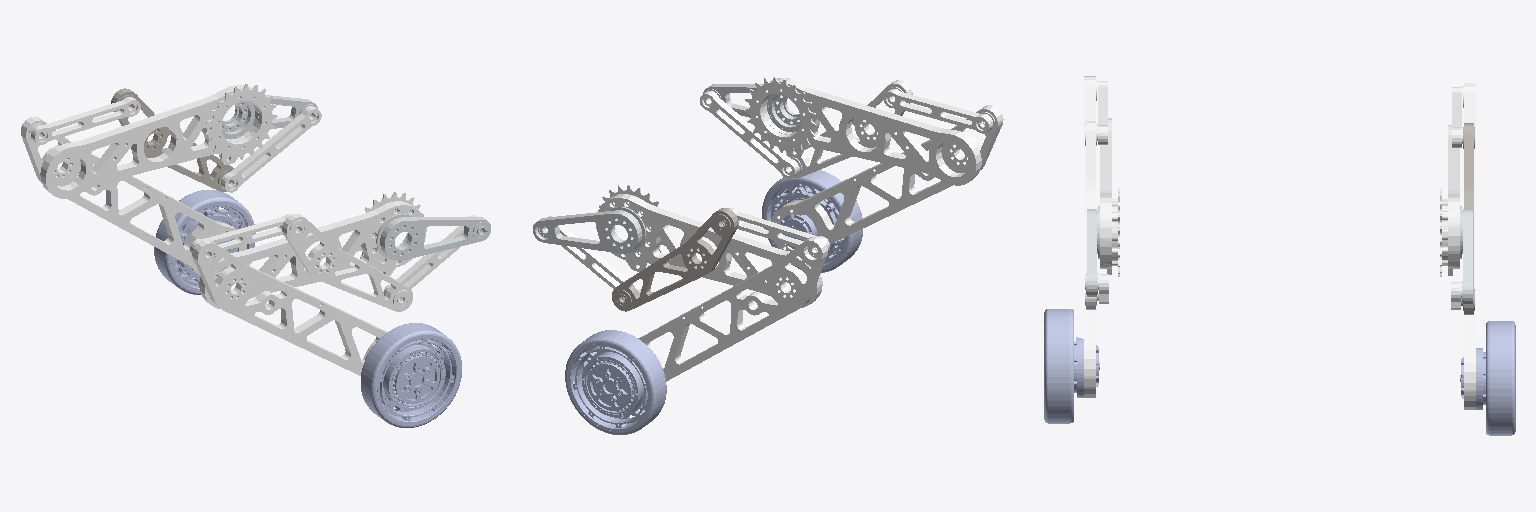
robot.urdf — COD-2026-Balance-2.0:
<?xml version="1.0" encoding="utf-8"?>
<!-- This URDF was automatically created by SolidWorks to URDF Exporter! Originally created by [author] ([email redacted]) 
     Commit Version: 1.6.0-4-g7f85cfe  Build Version: 1.6.7995.38578
     For more information, please see http://wiki.ros.org/sw_urdf_exporter -->
<robot
  name="COD-2026-Balance-2.0">
  <link
    name="base_link">
    <inertial>
      <origin
        xyz="-0.019917 -0.00040396 0.021412"
        rpy="0 0 0" />
      <mass
        value="11" />
      <inertia
        ixx="2.8641"
        ixy="0.00055707"
        ixz="-7.3377E-05"
        iyy="2.8736"
        iyz="-4.4471E-06"
        izz="3.0472" />
    </inertial>
    <visual>
      <origin
        xyz="0 0 0"
        rpy="0 0 0" />
      <geometry>
        <mesh
          filename="package://cod_2026_balance/meshes/base_link.STL" />
      </geometry>
      <material
        name="">
        <color
          rgba="1 1 1 1" />
      </material>
    </visual>
    <collision>
      <origin
        xyz="0 0 0"
        rpy="0 0 0" />
      <geometry>
        <mesh
          filename="package://cod_2026_balance/meshes/base_link.STL" />
      </geometry>
    </collision>
  </link>
  <link
    name="Left_front_link">
    <inertial>
      <origin
        xyz="0.032009 -0.002932 -0.003563"
        rpy="0 0 0" />
      <mass
        value="0.7" />
      <inertia
        ixx="3.0647E-05"
        ixy="5.8453E-07"
        ixz="1.0557E-05"
        iyy="0.00015289"
        iyz="-6.5066E-08"
        izz="0.00012431" />
    </inertial>
    <visual>
      <origin
        xyz="0 0 0"
        rpy="0 0 0" />
      <geometry>
        <mesh
          filename="package://cod_2026_balance/meshes/Left_front_link.STL" />
      </geometry>
      <material
        name="">
        <color
          rgba="0.89804 0.91765 0.92941 1" />
      </material>
    </visual>
    <collision>
      <origin
        xyz="0 0 0"
        rpy="0 0 0" />
      <geometry>
        <mesh
          filename="package://cod_2026_balance/meshes/Left_front_link.STL" />
      </geometry>
    </collision>
  </link>
  <joint
    name="Left_front_joint"
    type="continuous">
    <origin
      xyz="-0.01939139612421 -0.183700000000001 -0.0500000000000005"
      rpy="0 0 0" />
    <parent
      link="base_link" />
    <child
      link="Left_front_link" />
    <axis
      xyz="0 1 0" />
    <limit
      lower="0"
      upper="0"
      effort="0"
      velocity="0" />
  </joint>
  <link
    name="Left_front_child1_link">
    <inertial>
      <origin
        xyz="-0.038168 0.0023981 -0.022193"
        rpy="0 0 0" />
      <mass
        value="0.25" />
      <inertia
        ixx="1.4506E-05"
        ixy="-6.7179E-20"
        ixz="-2.2229E-05"
        iyy="5.3755E-05"
        iyz="-7.6825E-20"
        izz="3.9811E-05" />
    </inertial>
    <visual>
      <origin
        xyz="0 0 0"
        rpy="0 0 0" />
      <geometry>
        <mesh
          filename="package://cod_2026_balance/meshes/Left_front_child1_link.STL" />
      </geometry>
      <material
        name="">
        <color
          rgba="1 1 1 1" />
      </material>
    </visual>
    <collision>
      <origin
        xyz="0 0 0"
        rpy="0 0 0" />
      <geometry>
        <mesh
          filename="package://cod_2026_balance/meshes/Left_front_child1_link.STL" />
      </geometry>
    </collision>
  </link>
  <joint
    name="Left_front_child1_joint"
    type="continuous">
    <origin
      xyz="0.0993861629917907 0.00145000000000006 -0.0110630287791914"
      rpy="0 0 0" />
    <parent
      link="Left_front_link" />
    <child
      link="Left_front_child1_link" />
    <axis
      xyz="0 1 0" />
    <limit
      lower="0"
      upper="0"
      effort="0"
      velocity="0" />
  </joint>
  <link
    name="Left_front_child2_link">
    <inertial>
      <origin
        xyz="-0.070408 -0.0065 0.055735"
        rpy="0 0 0" />
      <mass
        value="0.45" />
      <inertia
        ixx="0.00011679"
        ixy="-3.2801E-20"
        ixz="0.00012028"
        iyy="0.00027733"
        iyz="3.4577E-20"
        izz="0.00016224" />
    </inertial>
    <visual>
      <origin
        xyz="0 0 0"
        rpy="0 0 0" />
      <geometry>
        <mesh
          filename="package://cod_2026_balance/meshes/Left_front_child2_link.STL" />
      </geometry>
      <material
        name="">
        <color
          rgba="1 1 1 1" />
      </material>
    </visual>
    <collision>
      <origin
        xyz="0 0 0"
        rpy="0 0 0" />
      <geometry>
        <mesh
          filename="package://cod_2026_balance/meshes/Left_front_child2_link.STL" />
      </geometry>
    </collision>
  </link>
  <joint
    name="Left_front_child2_joint"
    type="continuous">
    <origin
      xyz="-0.102130105644591 -0.00200000000000009 -0.0593843508091539"
      rpy="0 0 0" />
    <parent
      link="Left_front_child1_link" />
    <child
      link="Left_front_child2_link" />
    <axis
      xyz="0 1 0" />
    <limit
      lower="0"
      upper="0"
      effort="0"
      velocity="0" />
  </joint>
  <link
    name="Left_front_child3_link">
    <inertial>
      <origin
        xyz="-0.056516 0.0047872 -0.0018655"
        rpy="0 0 0" />
      <mass
        value="0.25" />
      <inertia
        ixx="1.2207E-06"
        ixy="-3.6753E-21"
        ixz="-1.5294E-06"
        iyy="4.8247E-05"
        iyz="-1.4566E-21"
        izz="4.7505E-05" />
    </inertial>
    <visual>
      <origin
        xyz="0 0 0"
        rpy="0 0 0" />
      <geometry>
        <mesh
          filename="package://cod_2026_balance/meshes/Left_front_child3_link.STL" />
      </geometry>
      <material
        name="">
        <color
          rgba="1 1 1 1" />
      </material>
    </visual>
    <collision>
      <origin
        xyz="0 0 0"
        rpy="0 0 0" />
      <geometry>
        <mesh
          filename="package://cod_2026_balance/meshes/Left_front_child3_link.STL" />
      </geometry>
    </collision>
  </link>
  <joint
    name="Left_front_child3_joint"
    type="continuous">
    <origin
      xyz="-0.131926640294813 0.000999999999999945 0.116078660945416"
      rpy="0 0 0" />
    <parent
      link="Left_front_child2_link" />
    <child
      link="Left_front_child3_link" />
    <axis
      xyz="0 1 0" />
    <limit
      lower="0"
      upper="0"
      effort="0"
      velocity="0" />
  </joint>
  <link
    name="Left_rear_link">
    <inertial>
      <origin
        xyz="-0.088717 -0.014548 -0.002836"
        rpy="0 0 0" />
      <mass
        value="0.7" />
      <inertia
        ixx="0.00012535"
        ixy="-2.0567E-06"
        ixz="-2.904E-05"
        iyy="0.0015394"
        iyz="3.9969E-07"
        izz="0.00142" />
    </inertial>
    <visual>
      <origin
        xyz="0 0 0"
        rpy="0 0 0" />
      <geometry>
        <mesh
          filename="package://cod_2026_balance/meshes/Left_rear_link.STL" />
      </geometry>
      <material
        name="">
        <color
          rgba="1 1 1 1" />
      </material>
    </visual>
    <collision>
      <origin
        xyz="0 0 0"
        rpy="0 0 0" />
      <geometry>
        <mesh
          filename="package://cod_2026_balance/meshes/Left_rear_link.STL" />
      </geometry>
    </collision>
  </link>
  <joint
    name="Left_rear_joint"
    type="continuous">
    <origin
      xyz="-0.0193913961242041 -0.1597 -0.0500000000000005"
      rpy="0 0 0" />
    <parent
      link="base_link" />
    <child
      link="Left_rear_link" />
    <axis
      xyz="0 -1 0" />
    <limit
      lower="0"
      upper="0"
      effort="0"
      velocity="0" />
  </joint>
  <link
    name="Left_rear_child1_link">
    <inertial>
      <origin
        xyz="0.077559 -0.0084721 -0.050638"
        rpy="0 0 0" />
      <mass
        value="0.75" />
      <inertia
        ixx="0.00094196"
        ixy="2.0864E-19"
        ixz="0.0011671"
        iyy="0.0026525"
        iyz="-1.6813E-19"
        izz="0.001717" />
    </inertial>
    <visual>
      <origin
        xyz="0 0 0"
        rpy="0 0 0" />
      <geometry>
        <mesh
          filename="package://cod_2026_balance/meshes/Left_rear_child1_link.STL" />
      </geometry>
      <material
        name="">
        <color
          rgba="1 1 1 1" />
      </material>
    </visual>
    <collision>
      <origin
        xyz="0 0 0"
        rpy="0 0 0" />
      <geometry>
        <mesh
          filename="package://cod_2026_balance/meshes/Left_rear_child1_link.STL" />
      </geometry>
    </collision>
  </link>
  <joint
    name="Left_rear_child1_joint"
    type="continuous">
    <origin
      xyz="-0.214882970940007 -0.0235000000000005 -0.00709286965894851"
      rpy="0 0 0" />
    <parent
      link="Left_rear_link" />
    <child
      link="Left_rear_child1_link" />
    <axis
      xyz="0 1 0" />
    <limit
      lower="0"
      upper="0"
      effort="0"
      velocity="0" />
  </joint>
  <link
    name="Left_Wheel_link">
    <inertial>
      <origin
        xyz="0.00015229 -0.0099965 -0.00013677"
        rpy="0 0 0" />
      <mass
        value="0.9" />
      <inertia
        ixx="0.00022909"
        ixy="2.2333E-08"
        ixz="-5.0665E-07"
        iyy="0.00043712"
        iyz="-2.1681E-08"
        izz="0.00023021" />
    </inertial>
    <visual>
      <origin
        xyz="0 0 0"
        rpy="0 0 0" />
      <geometry>
        <mesh
          filename="package://cod_2026_balance/meshes/Left_Wheel_link.STL" />
      </geometry>
      <material
        name="">
        <color
          rgba="0.79216 0.81961 0.93333 1" />
      </material>
    </visual>
    <collision>
      <origin
        xyz="0 0 0"
        rpy="0 0 0" />
      <geometry>
        <mesh
          filename="package://cod_2026_balance/meshes/Left_Wheel_link.STL" />
      </geometry>
    </collision>
  </link>
  <joint
    name="Left_Wheel_joint"
    type="continuous">
    <origin
      xyz="0.208982671470372 -0.02455 -0.144368428074944"
      rpy="0 0 0" />
    <parent
      link="Left_rear_child1_link" />
    <child
      link="Left_Wheel_link" />
    <axis
      xyz="0 1 0" />
    <limit
      lower="0"
      upper="0"
      effort="0"
      velocity="0" />
  </joint>
  <link
    name="Right_front_link">
    <inertial>
      <origin
        xyz="0.025832 0.0043356 -0.0054908"
        rpy="0 0 0" />
      <mass
        value="0.7" />
      <inertia
        ixx="3.3248E-05"
        ixy="-5.7528E-07"
        ixz="1.9526E-05"
        iyy="0.00015221"
        iyz="1.2228E-07"
        izz="0.00012096" />
    </inertial>
    <visual>
      <origin
        xyz="0 0 0"
        rpy="0 0 0" />
      <geometry>
        <mesh
          filename="package://cod_2026_balance/meshes/Right_front_link.STL" />
      </geometry>
      <material
        name="">
        <color
          rgba="0.89804 0.91765 0.92941 1" />
      </material>
    </visual>
    <collision>
      <origin
        xyz="0 0 0"
        rpy="0 0 0" />
      <geometry>
        <mesh
          filename="package://cod_2026_balance/meshes/Right_front_link.STL" />
      </geometry>
    </collision>
  </link>
  <joint
    name="Right_front_joint"
    type="continuous">
    <origin
      xyz="-0.01939139612421 0.181699999999995 -0.0500000000000005"
      rpy="0 0 0" />
    <parent
      link="base_link" />
    <child
      link="Right_front_link" />
    <axis
      xyz="0 -1 0" />
    <limit
      lower="0"
      upper="0"
      effort="0"
      velocity="0" />
  </joint>
  <link
    name="Right_front_child1_link">
    <inertial>
      <origin
        xyz="-0.050846 -0.0047941 -0.028159"
        rpy="0 0 0" />
      <mass
        value="0.25" />
      <inertia
        ixx="1.3207E-05"
        ixy="6.6322E-20"
        ixz="-2.1681E-05"
        iyy="5.3061E-05"
        iyz="7.4006E-20"
        izz="4.0349E-05" />
    </inertial>
    <visual>
      <origin
        xyz="0 0 0"
        rpy="0 0 0" />
      <geometry>
        <mesh
          filename="package://cod_2026_balance/meshes/Right_front_child1_link.STL" />
      </geometry>
      <material
        name="">
        <color
          rgba="1 1 1 1" />
      </material>
    </visual>
    <collision>
      <origin
        xyz="0 0 0"
        rpy="0 0 0" />
      <geometry>
        <mesh
          filename="package://cod_2026_balance/meshes/Right_front_child1_link.STL" />
      </geometry>
    </collision>
  </link>
  <joint
    name="Right_front_child1_joint"
    type="continuous">
    <origin
      xyz="0.0978147059290256 0.000549999999999995 -0.0207914238093081"
      rpy="0 0 0" />
    <parent
      link="Right_front_link" />
    <child
      link="Right_front_child1_link" />
    <axis
      xyz="0 1 0" />
    <limit
      lower="0"
      upper="0"
      effort="0"
      velocity="0" />
  </joint>
  <link
    name="Right_front_child2_link">
    <inertial>
      <origin
        xyz="-0.067449 0.006444 0.058262"
        rpy="0 0 0" />
      <mass
        value="0.45" />
      <inertia
        ixx="0.00012719"
        ixy="4.0075E-20"
        ixz="0.00012179"
        iyy="0.00027735"
        iyz="-3.8965E-20"
        izz="0.00015187" />
    </inertial>
    <visual>
      <origin
        xyz="0 0 0"
        rpy="0 0 0" />
      <geometry>
        <mesh
          filename="package://cod_2026_balance/meshes/Right_front_child2_link.STL" />
      </geometry>
      <material
        name="">
        <color
          rgba="0.77647 0.75686 0.73725 1" />
      </material>
    </visual>
    <collision>
      <origin
        xyz="0 0 0"
        rpy="0 0 0" />
      <geometry>
        <mesh
          filename="package://cod_2026_balance/meshes/Right_front_child2_link.STL" />
      </geometry>
    </collision>
  </link>
  <joint
    name="Right_front_child2_joint"
    type="continuous">
    <origin
      xyz="-0.103349459713574 0.00200000000000003 -0.057235904613383"
      rpy="0 0 0" />
    <parent
      link="Right_front_child1_link" />
    <child
      link="Right_front_child2_link" />
    <axis
      xyz="0 -1 0" />
    <limit
      lower="0"
      upper="0"
      effort="0"
      velocity="0" />
  </joint>
  <link
    name="Right_front_child3_link">
    <inertial>
      <origin
        xyz="-0.056417 -0.0047872 -0.0038317"
        rpy="0 0 0" />
      <mass
        value="0.25" />
      <inertia
        ixx="1.3832E-06"
        ixy="2.4921E-21"
        ixz="-3.1358E-06"
        iyy="4.8247E-05"
        iyz="1.8304E-21"
        izz="4.7342E-05" />
    </inertial>
    <visual>
      <origin
        xyz="0 0 0"
        rpy="0 0 0" />
      <geometry>
        <mesh
          filename="package://cod_2026_balance/meshes/Right_front_child3_link.STL" />
      </geometry>
      <material
        name="">
        <color
          rgba="1 1 1 1" />
      </material>
    </visual>
    <collision>
      <origin
        xyz="0 0 0"
        rpy="0 0 0" />
      <geometry>
        <mesh
          filename="package://cod_2026_balance/meshes/Right_front_child3_link.STL" />
      </geometry>
    </collision>
  </link>
  <joint
    name="Right_front_joint3_joint"
    type="continuous">
    <origin
      xyz="-0.126832128107205 -0.000999999999999973 0.121624443374493"
      rpy="0 0 0" />
    <parent
      link="Right_front_child2_link" />
    <child
      link="Right_front_child3_link" />
    <axis
      xyz="0 -1 0" />
    <limit
      lower="0"
      upper="0"
      effort="0"
      velocity="0" />
  </joint>
  <link
    name="Right_rear_link">
    <inertial>
      <origin
        xyz="-0.088564 0.014548 -0.0059225"
        rpy="0 0 0" />
      <mass
        value="0.7" />
      <inertia
        ixx="0.00012894"
        ixy="2.0693E-06"
        ixz="-7.4007E-05"
        iyy="0.0015394"
        iyz="-3.2786E-07"
        izz="0.0014164" />
    </inertial>
    <visual>
      <origin
        xyz="0 0 0"
        rpy="0 0 0" />
      <geometry>
        <mesh
          filename="package://cod_2026_balance/meshes/Right_rear_link.STL" />
      </geometry>
      <material
        name="">
        <color
          rgba="1 1 1 1" />
      </material>
    </visual>
    <collision>
      <origin
        xyz="0 0 0"
        rpy="0 0 0" />
      <geometry>
        <mesh
          filename="package://cod_2026_balance/meshes/Right_rear_link.STL" />
      </geometry>
    </collision>
  </link>
  <joint
    name="Right_rear_joint"
    type="continuous">
    <origin
      xyz="-0.01939139612421 0.159699999999995 -0.0500000000000005"
      rpy="0 0 0" />
    <parent
      link="base_link" />
    <child
      link="Right_rear_link" />
    <axis
      xyz="0 1 0" />
    <limit
      lower="0"
      upper="0"
      effort="0"
      velocity="0" />
  </joint>
  <link
    name="Right_rear_child1_link">
    <inertial>
      <origin
        xyz="0.079808 0.0083536 -0.058254"
        rpy="0 0 0" />
      <mass
        value="0.75" />
      <inertia
        ixx="0.0010429"
        ixy="-2.6936E-19"
        ixz="0.001196"
        iyy="0.0026518"
        iyz="2.3414E-19"
        izz="0.0016152" />
    </inertial>
    <visual>
      <origin
        xyz="0 0 0"
        rpy="0 0 0" />
      <geometry>
        <mesh
          filename="package://cod_2026_balance/meshes/Right_rear_child1_link.STL" />
      </geometry>
      <material
        name="">
        <color
          rgba="1 1 1 1" />
      </material>
    </visual>
    <collision>
      <origin
        xyz="0 0 0"
        rpy="0 0 0" />
      <geometry>
        <mesh
          filename="package://cod_2026_balance/meshes/Right_rear_child1_link.STL" />
      </geometry>
    </collision>
  </link>
  <joint
    name="Right_rear_child1_joint"
    type="continuous">
    <origin
      xyz="-0.214505850114416 0.0235 -0.0145684682342236"
      rpy="0 0 0" />
    <parent
      link="Right_rear_link" />
    <child
      link="Right_rear_child1_link" />
    <axis
      xyz="0 -1 0" />
    <limit
      lower="0"
      upper="0"
      effort="0"
      velocity="0" />
  </joint>
  <link
    name="Right_Wheel_link">
    <inertial>
      <origin
        xyz="0.00017762 0.0099965 -0.00010174"
        rpy="0 0 0" />
      <mass
        value="0.9" />
      <inertia
        ixx="0.0002304"
        ixy="-2.759E-08"
        ixz="-7.2684E-08"
        iyy="0.00043712"
        iyz="1.441E-08"
        izz="0.0002289" />
    </inertial>
    <visual>
      <origin
        xyz="0 0 0"
        rpy="0 0 0" />
      <geometry>
        <mesh
          filename="package://cod_2026_balance/meshes/Right_Wheel_link.STL" />
      </geometry>
      <material
        name="">
        <color
          rgba="0.79216 0.81961 0.93333 1" />
      </material>
    </visual>
    <collision>
      <origin
        xyz="0 0 0"
        rpy="0 0 0" />
      <geometry>
        <mesh
          filename="package://cod_2026_balance/meshes/Right_Wheel_link.STL" />
      </geometry>
    </collision>
  </link>
  <joint
    name="Right_Wheel_joint"
    type="continuous">
    <origin
      xyz="0.202605331817605 0.0245500000000001 -0.153189684766306"
      rpy="0 0 0" />
    <parent
      link="Right_rear_child1_link" />
    <child
      link="Right_Wheel_link" />
    <axis
      xyz="0 -1 0" />
  </joint>

  <!-- Gazebo标签用于支持闭链机构仿真 -->
  <gazebo>
    <!-- 左侧五连杆闭环约束1: 连接Left_front_child2_link和Left_rear_link -->
    <joint name='Left_loop1_joint' type='revolute'>
      <pose relative_to='Left_rear_link'>-0.1005 -0.025 -0.0035 0 0 0</pose>
      <parent>Left_rear_link</parent>
      <child>Left_front_child2_link</child>
      <axis>
        <xyz>0 1 0</xyz>
        <limit>
          <lower>0</lower>
          <upper>0.98</upper>
          <effort>0</effort>
          <velocity>0</velocity>
        </limit>
        <dynamics>
          <damping>0.1</damping>
          <friction>0.01</friction>
        </dynamics>
      </axis>
    </joint>

    <!-- 左侧五连杆闭环约束2: 连接Left_front_child3_link和Left_rear_child1_link -->
    <joint name='Left_loop2_joint' type='revolute'>
      <pose relative_to='Left_rear_child1_link'>-0.038 0 0.05 0 0 0</pose>
      <parent>Left_rear_child1_link</parent>
      <child>Left_front_child3_link</child>
      <axis>
        <xyz>0 1 0</xyz>
        <limit>
          <lower>-1.3</lower>
          <upper>0</upper>
          <effort>0</effort>
          <velocity>0</velocity>
        </limit>
        <dynamics>
          <damping>0.1</damping>
          <friction>0.01</friction>
        </dynamics>
      </axis>
    </joint>

    <!-- 右侧五连杆闭环约束1: 连接Right_front_child2_link和Right_rear_link -->
    <joint name='Right_loop1_joint' type='revolute'>
      <pose relative_to='Right_rear_link'>-0.1 0.0225 -0.008 0 0 0</pose>
      <parent>Right_rear_link</parent>
      <child>Right_front_child2_link</child>
      <axis>
        <xyz>0 -1 0</xyz>
        <limit>
          <lower>-0.98</lower>
          <upper>0</upper>
          <effort>0</effort>
          <velocity>0</velocity>
        </limit>
        <dynamics>
          <damping>0.1</damping>
          <friction>0.01</friction>
        </dynamics>
      </axis>
    </joint>

    <!-- 右侧五连杆闭环约束2: 连接Right_front_child3_link和Right_rear_child1_link -->
    <joint name='Right_loop2_joint' type='revolute'>
      <pose relative_to='Right_rear_child1_link'>-0.035 0 0.05 0 0 0</pose>
      <parent>Right_rear_child1_link</parent>
      <child>Right_front_child3_link</child>
      <axis>
        <xyz>0 -1 0</xyz>
        <limit>
          <lower>-1.3</lower>
          <upper>0</upper>
          <effort>0</effort>
          <velocity>0</velocity>
        </limit>
        <dynamics>
          <damping>0.1</damping>
          <friction>0.01</friction>
        </dynamics>
      </axis>
    </joint>
  </gazebo>

</robot>

--- What the picture shows (computed from the rendered views, not written in the file) ---
The picture shows the robot from 3 angles, left to right: view 1: azimuth 30°, elevation 25°; view 2: azimuth 150°, elevation 25°; view 3: azimuth 270°, elevation 25°; orthographic projection.
Model COD-2026-Balance-2.0 with 15 links and 14 joints (14 continuous), rooted at base_link, posed every joint at zero.
Visible links, largest first — view 1: Right_rear_link, Left_Wheel_link, Left_rear_child1_link, Right_rear_child1_link, Left_rear_link, Left_front_child2_link, Right_Wheel_link, Left_front_link, Right_front_child1_link, Right_front_child2_link, Right_front_child3_link, Right_front_link (+2 smaller); view 2: Left_rear_link, Right_Wheel_link, Right_rear_child1_link, Left_rear_child1_link, Right_rear_link, Right_front_child2_link, Left_Wheel_link, Right_front_link, Left_front_child1_link, Left_front_child3_link, Left_front_child2_link, Left_front_link (+2 smaller); view 3: Right_Wheel_link, Left_Wheel_link, Left_rear_link, Right_rear_link, Right_rear_child1_link, Left_rear_child1_link, Left_front_child2_link, Right_front_child2_link, Right_front_link, Left_front_link, Left_front_child3_link, Right_front_child3_link.
Link boxes in pixels (x1,y1,x2,y2): Right_rear_link: (40,84,277,198); Left_Wheel_link: (361,323,461,427); Left_rear_child1_link: (192,239,387,375); Right_rear_child1_link: (21,116,246,280); Left_rear_link: (199,192,426,308); Left_front_child2_link: (282,214,412,311); Right_Wheel_link: (154,190,255,294); Left_front_link: (376,214,490,260); Right_front_child1_link: (221,106,321,192); Right_front_child2_link: (111,88,233,191); Right_front_child3_link: (31,97,140,144); Right_front_link: (222,95,317,139); Left_rear_link: (745,77,981,185); Right_Wheel_link: (565,330,666,434); Right_rear_child1_link: (638,236,827,381); Left_rear_child1_link: (771,105,1003,251); Right_rear_link: (596,185,822,307); Right_front_child2_link: (612,208,738,311); Left_Wheel_link: (762,170,862,272); Right_front_link: (533,207,645,253); Left_front_child1_link: (700,90,799,178); Left_front_child3_link: (883,89,992,133); Left_front_child2_link: (786,80,912,178); Left_front_link: (703,84,800,132); Right_Wheel_link: (1460,321,1515,435); Left_Wheel_link: (1044,309,1099,423); Left_rear_link: (1100,118,1119,276); Right_rear_link: (1440,125,1459,276); Right_rear_child1_link: (1463,83,1475,409); Left_rear_child1_link: (1084,76,1096,397); Left_front_child2_link: (1085,121,1096,309); Right_front_child2_link: (1461,123,1474,314); Right_front_link: (1460,206,1472,304); Left_front_link: (1085,206,1099,296); Left_front_child3_link: (1097,81,1107,144); Right_front_child3_link: (1452,87,1462,147).
Bounding box of the posed robot: 0.3765 × 0.4755 × 0.2863 m (x, y, z).
Meshes: 15 distinct files referenced, 14 mesh visuals loaded (14 binary STL); not drawn: 1 (reference not matched to a file when rendering).
